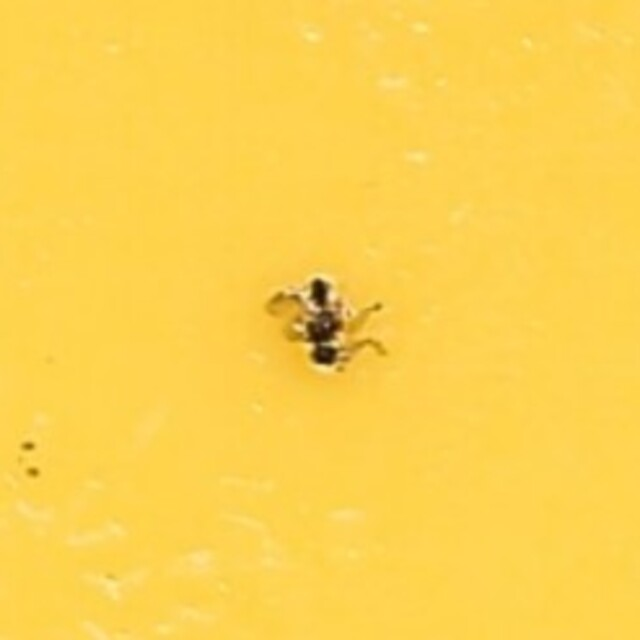Hymenoptera: (259, 268, 381, 372)
